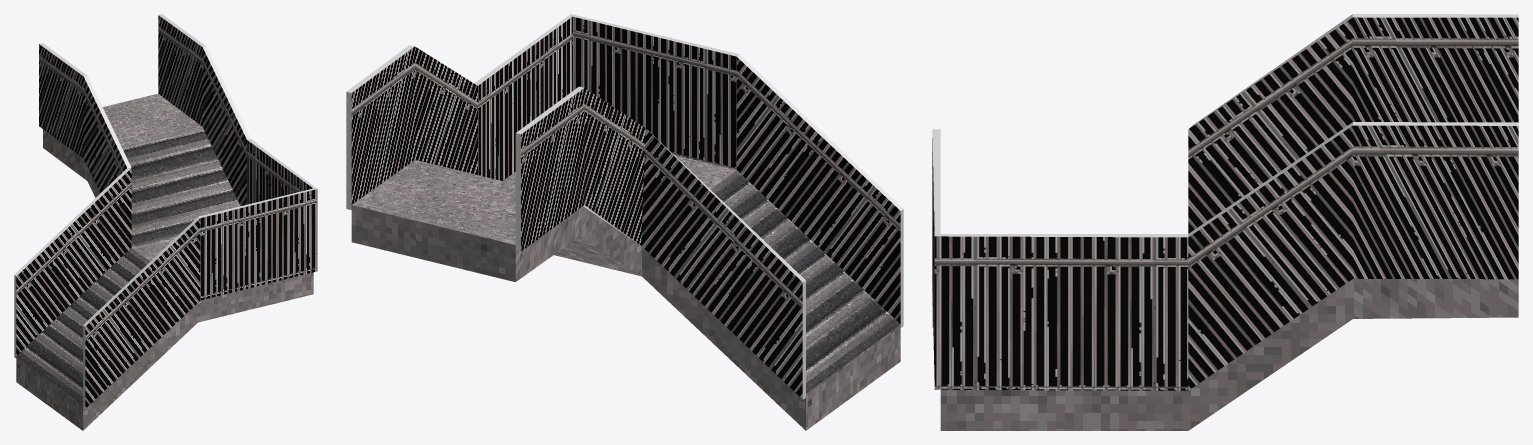
Rendered from raput batch2_RAPUT_VAR3.fbx.
3 renders of one model, left to right at view 1: azimuth 30°, elevation 25°; view 2: azimuth 150°, elevation 25°; view 3: azimuth 270°, elevation 25°, orthographic. The views are drawn at different scales.
Visible parts, largest first — view 1: raputkaide, raputpohja VAR3; view 2: raputkaide, raputpohja VAR3; view 3: raputkaide, raputpohja VAR3.
Part boxes in pixels (<box>): raputkaide: <box>14,14,317,408</box>; raputpohja VAR3: <box>16,93,313,430</box>; raputkaide: <box>346,14,903,399</box>; raputpohja VAR3: <box>351,155,900,430</box>; raputkaide: <box>932,14,1518,390</box>; raputpohja VAR3: <box>940,278,1518,430</box>.
Bounding box in the file's own units: 305 × 306 × 355.
